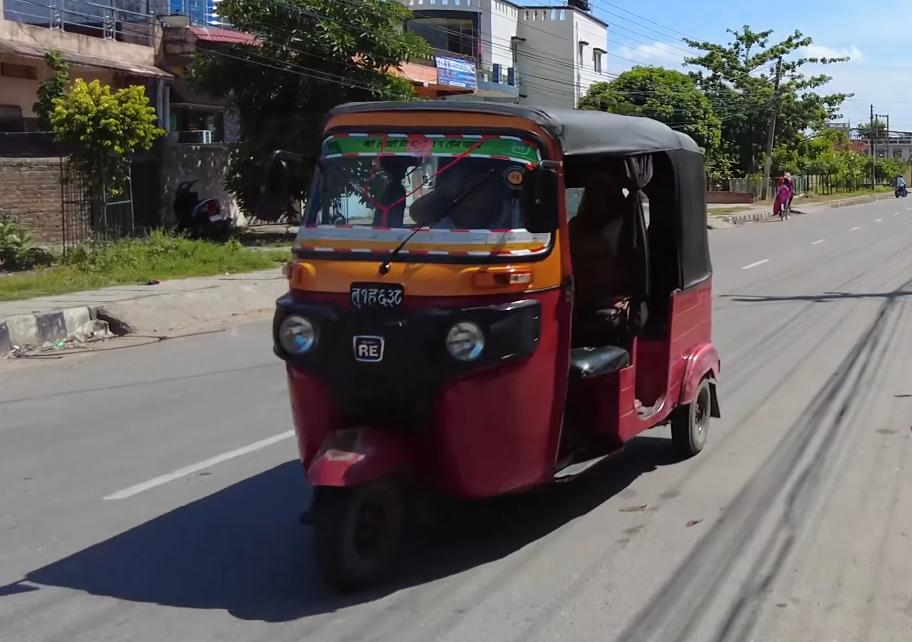auto_rickshaw: (264, 92, 731, 592)
